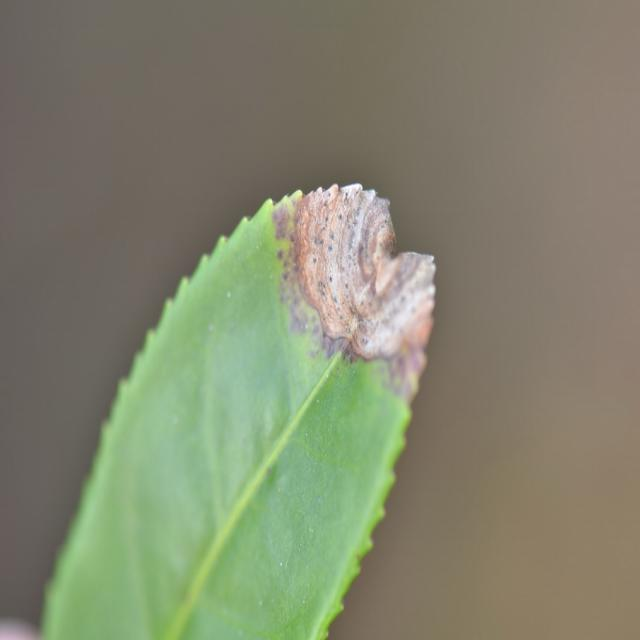Tea cloud leaf blight: (275, 162, 451, 401)
